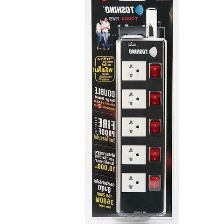book: (82, 0, 179, 224)
three_eye_plug: (116, 32, 171, 217)
